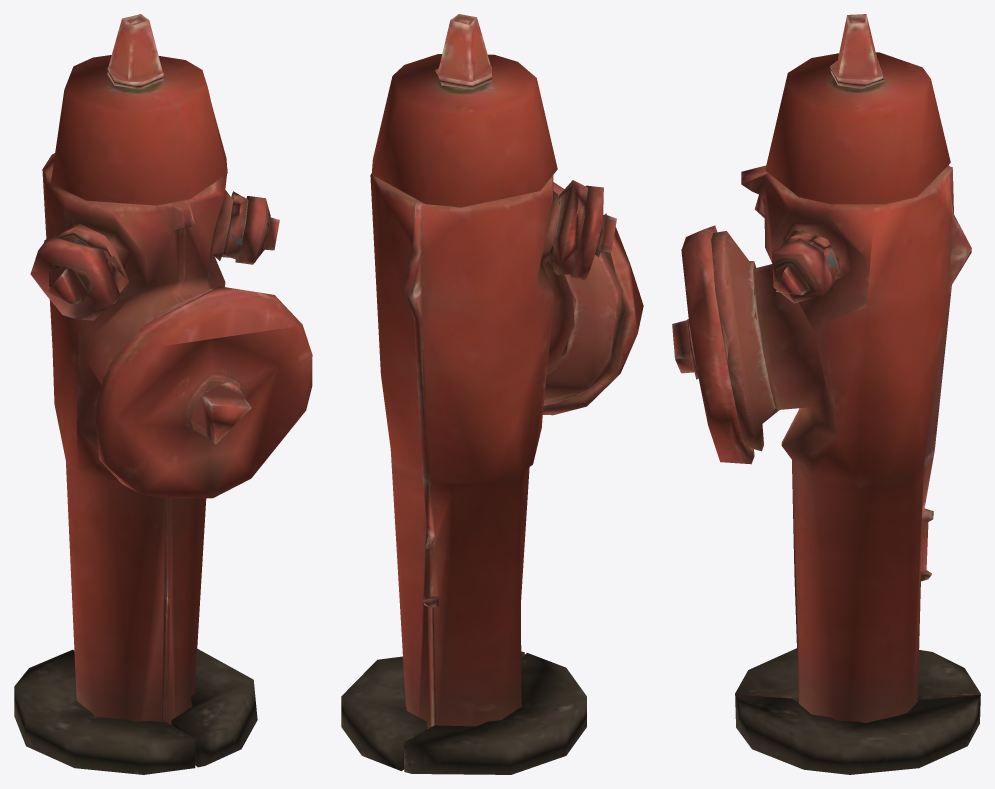
The model's file is fire_hydrant.glb.
The picture shows the model from 3 angles, left to right: view 1: azimuth 30°, elevation 25°; view 2: azimuth 150°, elevation 25°; view 3: azimuth 270°, elevation 25°; orthographic projection.
Visible parts, largest first — view 1: fire_hydrant; view 2: fire_hydrant; view 3: fire_hydrant.
Part boxes in pixels (x1,y1,x2,y2): fire_hydrant: (14, 14, 312, 774); fire_hydrant: (341, 14, 643, 774); fire_hydrant: (672, 14, 980, 774).
Bounding box in the file's own units: 0.2728 × 0.7992 × 0.3173.
1 material, 1 textured.
